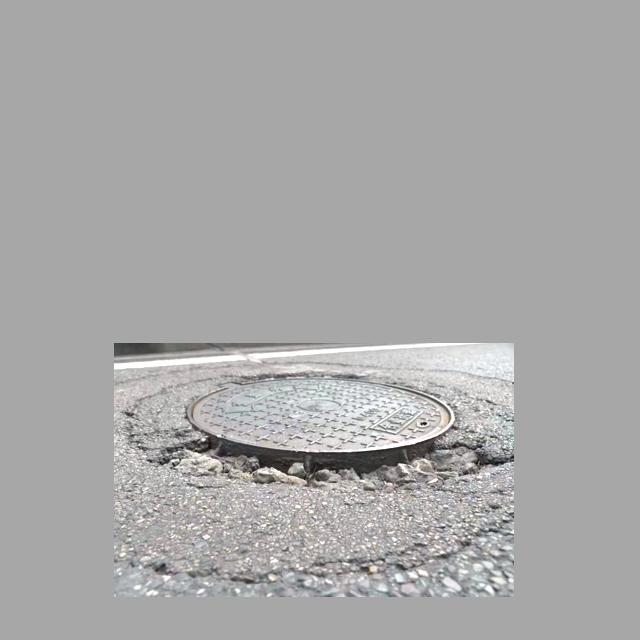circle: (125, 362, 508, 516)
